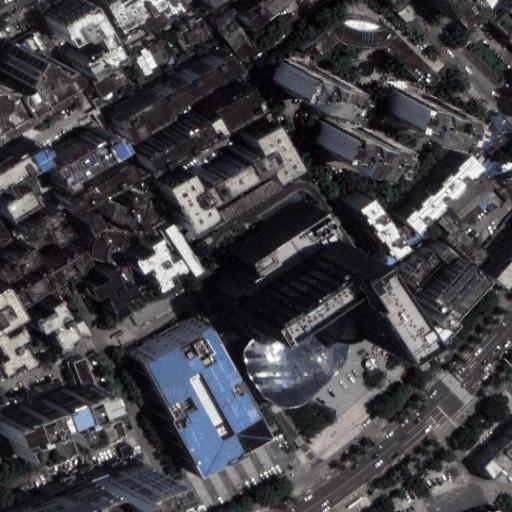building: (131, 313, 262, 465), (163, 123, 297, 232), (302, 17, 441, 92), (245, 309, 349, 406), (306, 231, 388, 337), (1, 378, 108, 453), (240, 204, 334, 284), (390, 143, 470, 222), (230, 247, 319, 318), (15, 250, 95, 311), (52, 132, 128, 194), (44, 0, 109, 66), (148, 122, 222, 176), (69, 164, 144, 217), (84, 457, 151, 512), (436, 261, 495, 322), (344, 186, 396, 249), (6, 478, 98, 512), (37, 302, 93, 354), (91, 267, 147, 319), (137, 240, 193, 292), (313, 119, 378, 163), (381, 88, 444, 132), (121, 96, 178, 143), (438, 215, 489, 267), (216, 89, 271, 136), (447, 173, 498, 223), (271, 57, 331, 99), (214, 10, 260, 64), (164, 223, 207, 278), (24, 208, 78, 249), (111, 193, 154, 242), (193, 57, 244, 97), (86, 214, 129, 261), (0, 329, 39, 377), (0, 246, 47, 284), (165, 80, 206, 118), (449, 0, 496, 33), (173, 15, 213, 53), (405, 252, 444, 290), (481, 235, 512, 281), (0, 179, 31, 214), (92, 68, 127, 98), (435, 313, 464, 346), (132, 45, 160, 76), (71, 357, 96, 386), (16, 137, 43, 163), (147, 38, 171, 67), (140, 12, 168, 36), (162, 0, 189, 24), (397, 4, 418, 25), (211, 118, 230, 141), (441, 247, 459, 265), (91, 96, 105, 108)
